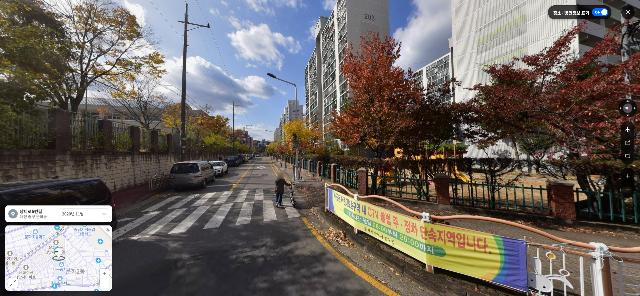ginkgo: (159, 110, 209, 147), (284, 116, 323, 154), (278, 139, 292, 153)
other: (454, 19, 639, 191), (1, 0, 167, 149), (323, 27, 464, 159), (93, 63, 190, 152), (203, 116, 234, 155)
